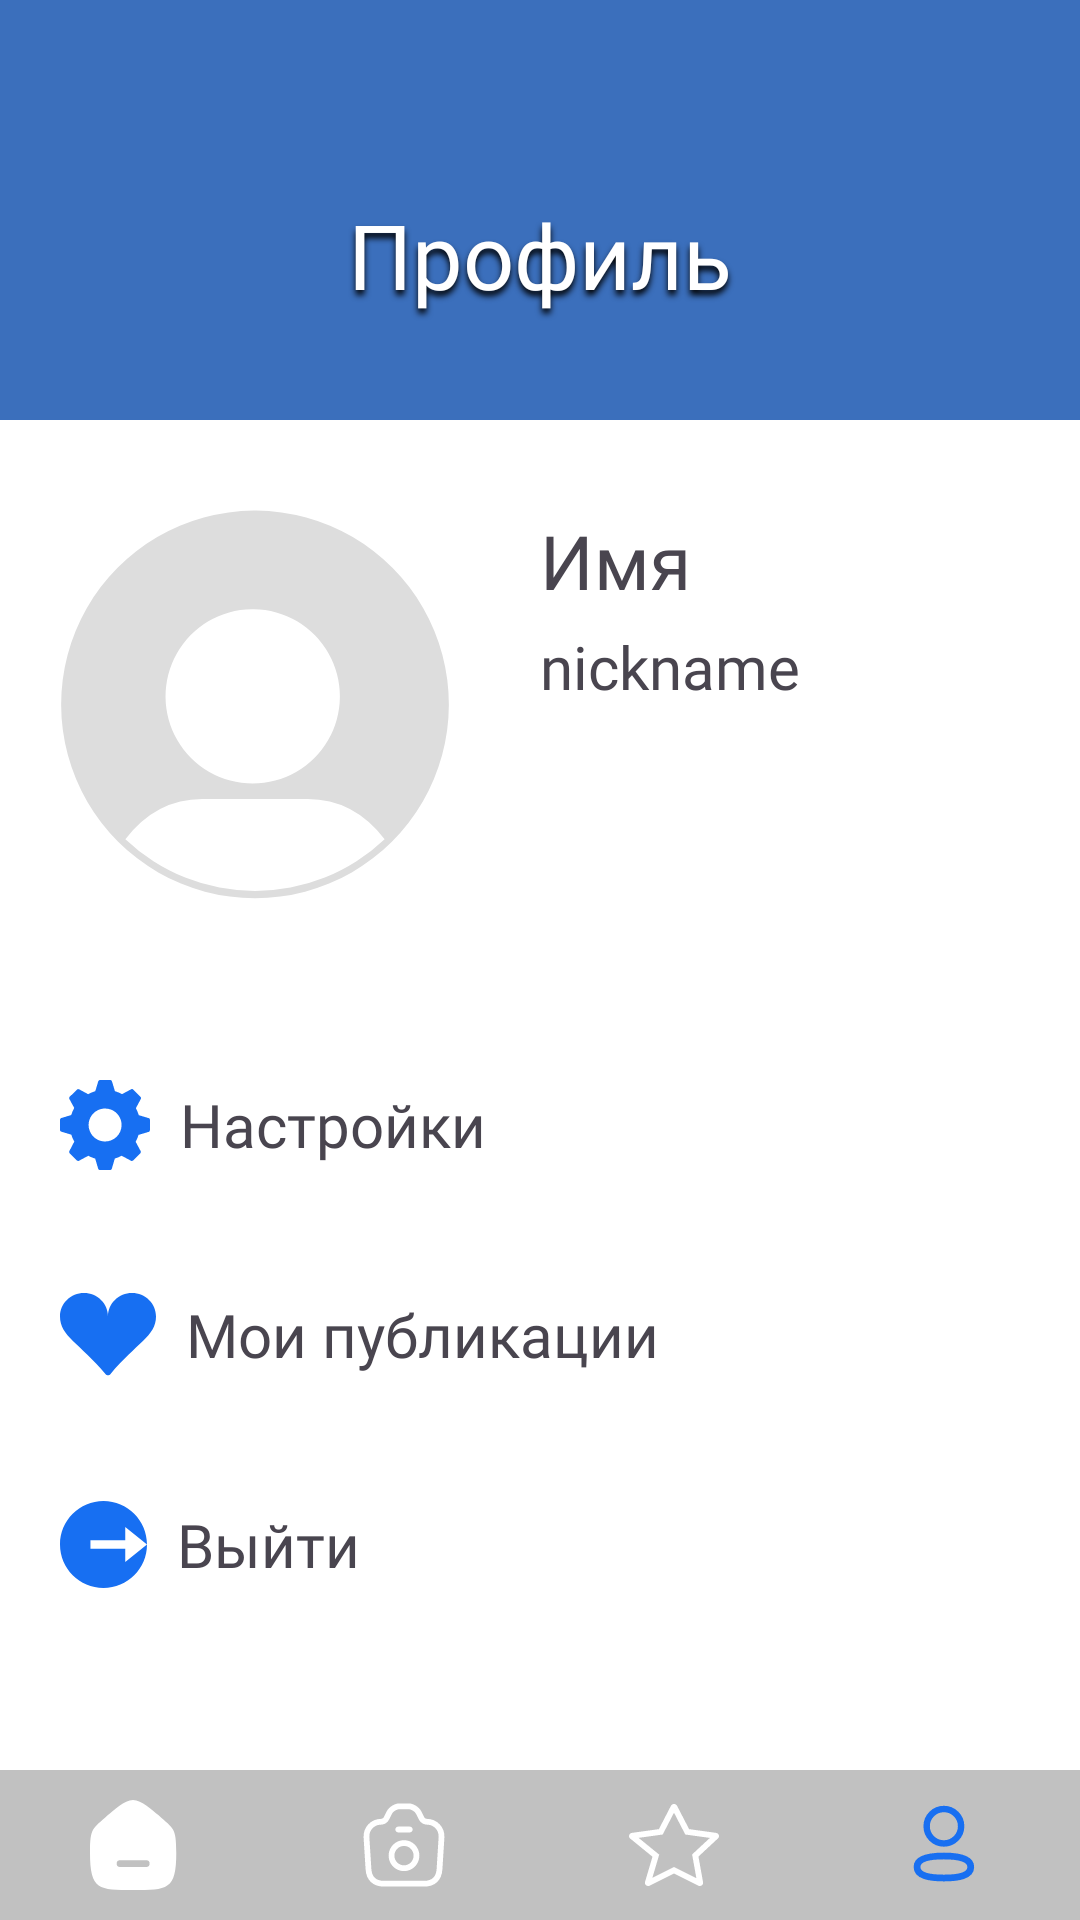

Icons on this 1080 x 1920 Android screen, each with its box as (x1=x1, y1=y1, x2=x2, y2=y2):
favorites: (x1=629, y1=1804, x2=719, y2=1886)
home: (x1=90, y1=1800, x2=176, y2=1890)
post: (x1=363, y1=1803, x2=445, y2=1887)
profile on: (x1=913, y1=1805, x2=974, y2=1882)
